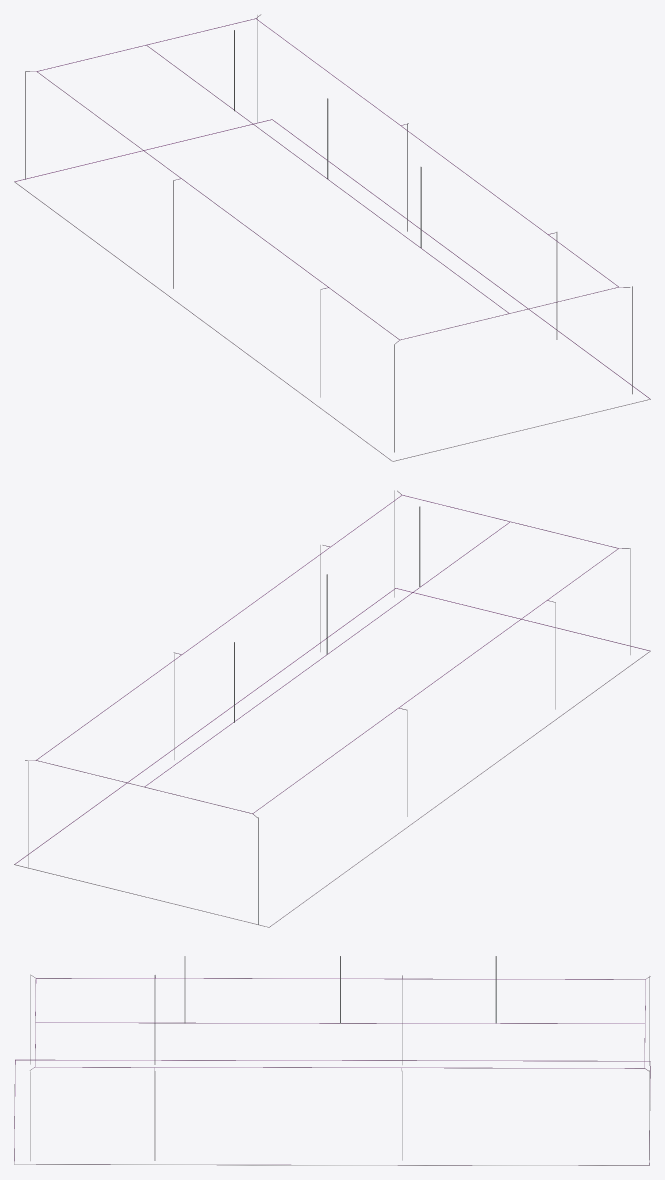
3 renders of one model, top to bottom at view 1: azimuth 30°, elevation 25°; view 2: azimuth 150°, elevation 25°; view 3: azimuth 270°, elevation 25°, orthographic. The views are drawn at different scales.
Visible parts, largest first — view 1: upper_perimeter, lower_perimeter; view 2: upper_perimeter, lower_perimeter; view 3: upper_perimeter, lower_perimeter.
Boxes of the visible parts, x1,y1,x2,y2 form: upper_perimeter: [25, 14, 630, 343]; lower_perimeter: [14, 119, 650, 461]; upper_perimeter: [25, 490, 629, 817]; lower_perimeter: [14, 588, 650, 927]; upper_perimeter: [30, 975, 650, 1071]; lower_perimeter: [14, 1059, 650, 1165].
Size of the model in its own units: 3.15 by 2.18 by 8.01.
